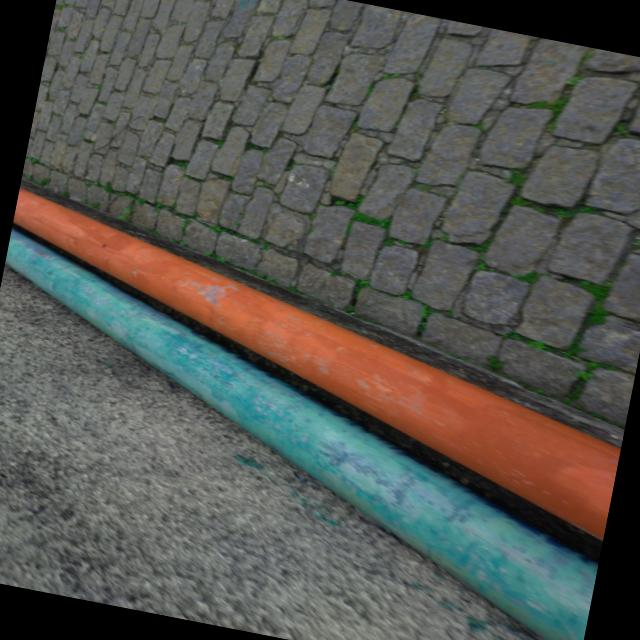gas: (5, 227, 598, 640), (13, 189, 621, 543)
